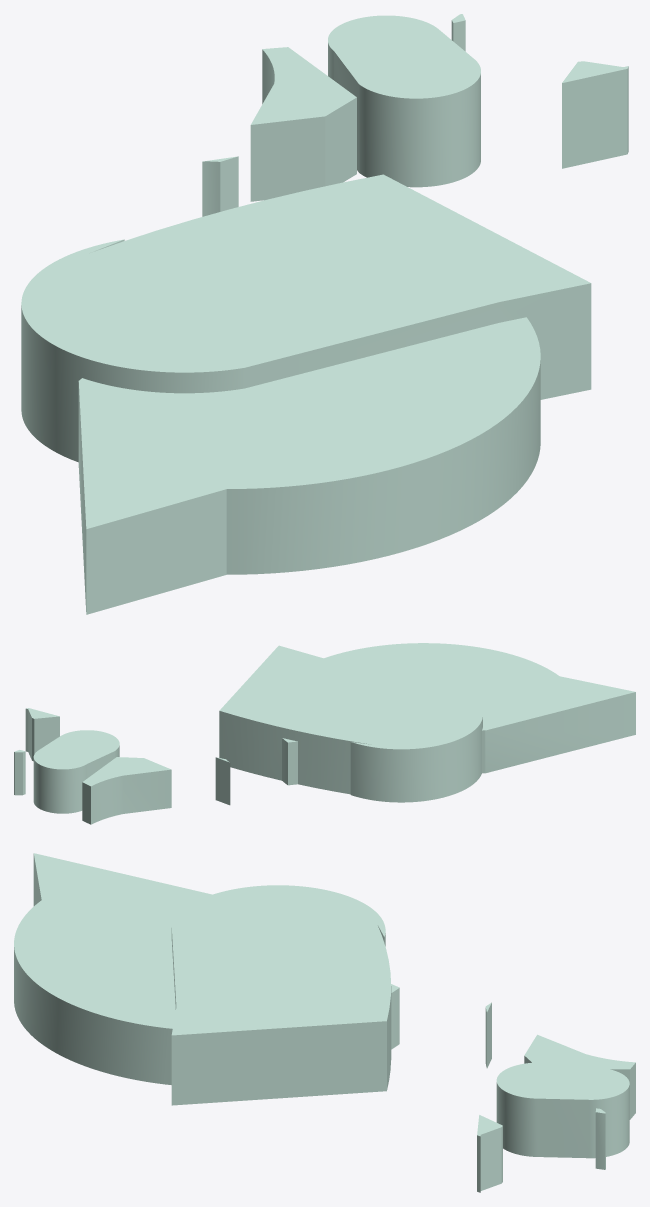
3 renders of one model, top to bottom at view 1: azimuth 30°, elevation 25°; view 2: azimuth 150°, elevation 25°; view 3: azimuth 270°, elevation 25°, orthographic. The views are drawn at different scales.
Parts seen in each view (by area): view 1: Renderer Node; view 2: Renderer Node; view 3: Renderer Node.
Part boxes in pixels (left/top/right/bottom): Renderer Node: left=21, top=14, right=628, bottom=614; Renderer Node: left=14, top=643, right=635, bottom=824; Renderer Node: left=14, top=853, right=635, bottom=1192.
Size of the model in its own units: 2.44 by 0.2813 by 2.26.
